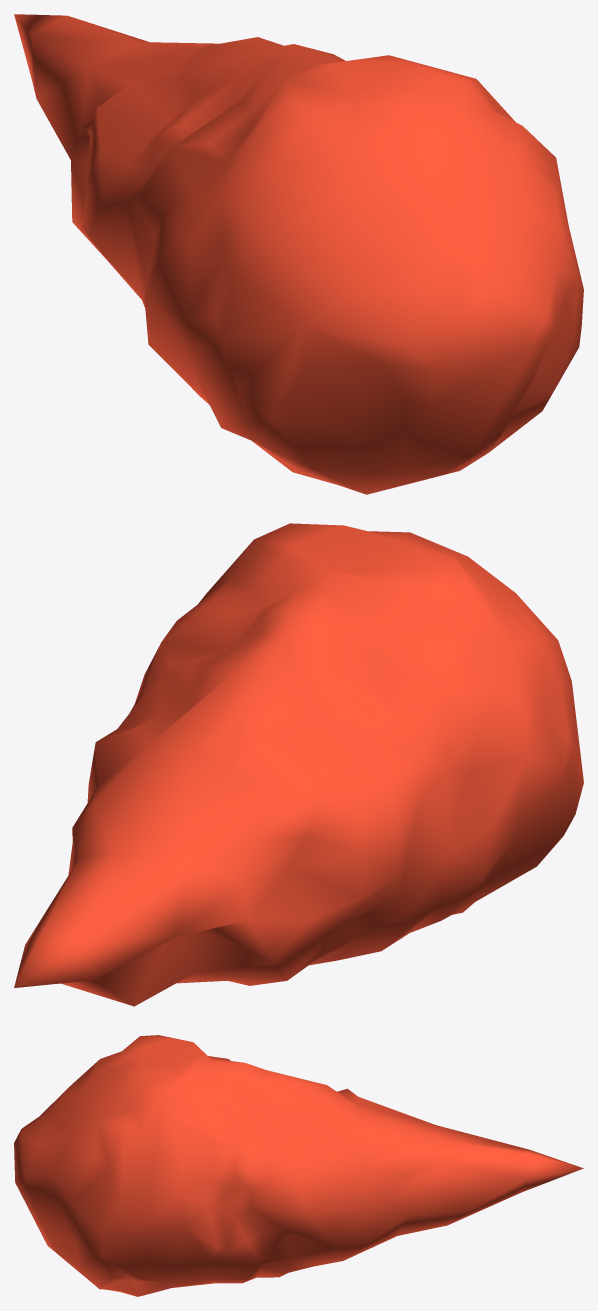
File: EFFMON5.fbx
3 renders of one model, top to bottom at view 1: azimuth 30°, elevation 25°; view 2: azimuth 150°, elevation 25°; view 3: azimuth 270°, elevation 25°, orthographic. The views are drawn at different scales.
Parts seen in each view (by area): view 1: Icosphere; view 2: Icosphere; view 3: Icosphere.
Part boxes in pixels (x1,y1,x2,y2): Icosphere: (14,14,583,494); Icosphere: (14,523,583,1006); Icosphere: (14,1035,583,1296).
Bounding box in the file's own units: 225 × 218 × 484.
